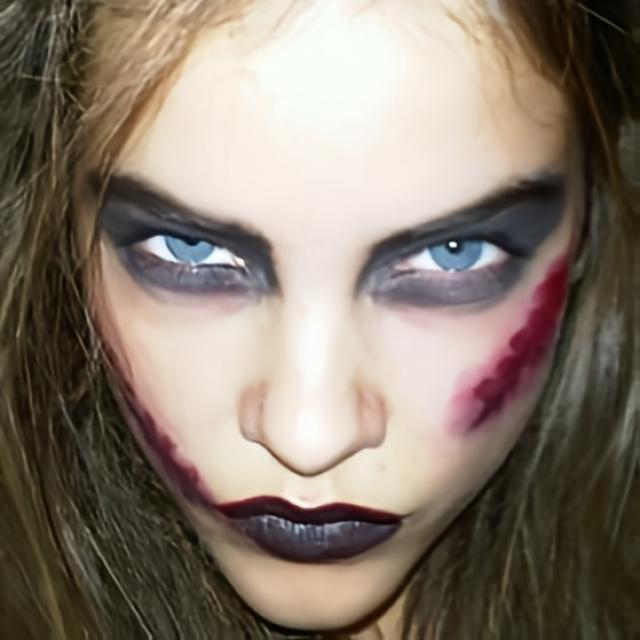anger: (83, 8, 582, 633)
